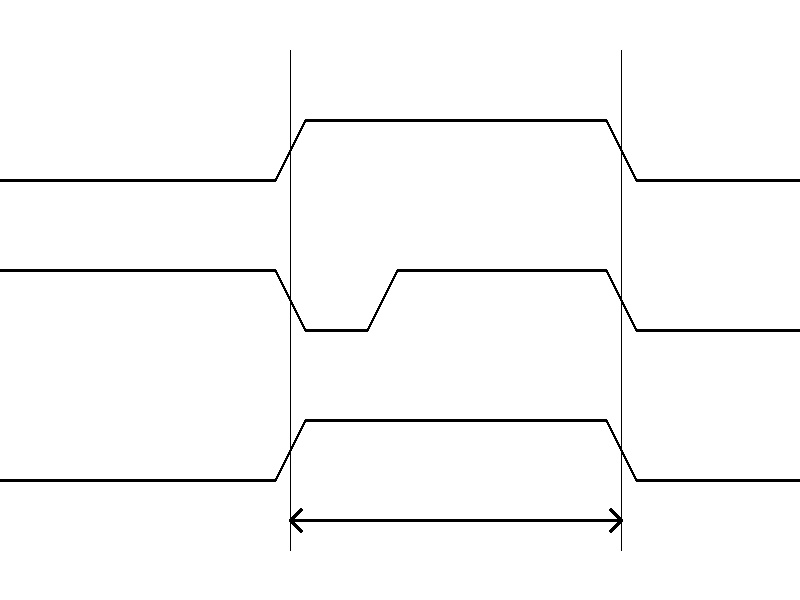double_arrow: (290, 505, 621, 535)
